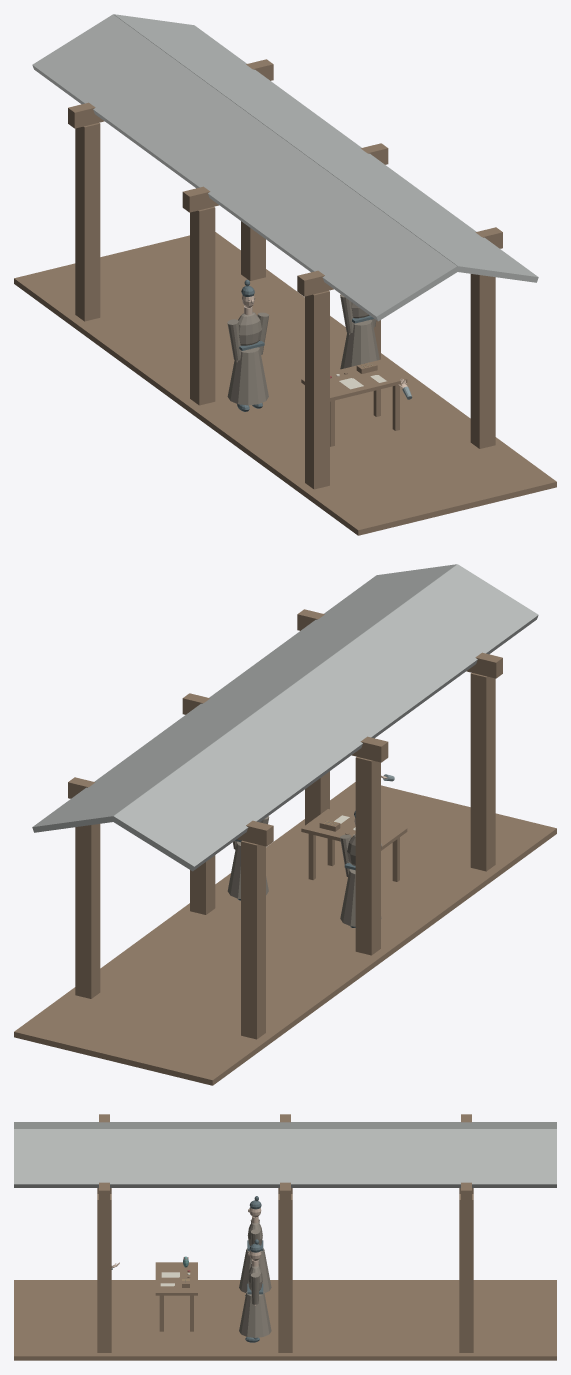
3 renders of one model, top to bottom at view 1: azimuth 30°, elevation 25°; view 2: azimuth 150°, elevation 25°; view 3: azimuth 270°, elevation 25°, orthographic. The views are drawn at different scales.
Parts seen in each view (by area): view 1: floor (×3), roof_left (×3), column (×5), roof_right (×3), robe_skirt (×2), beam (×3), tabletop, torso; view 2: floor (×3), roof_left (×3), column (×6), roof_right (×3), beam (×3), tabletop, robe_skirt; view 3: floor (×3), roof_right (×3), column (×3), roof_left (×3), robe_skirt (×2), tabletop, beam (×3).
Part boxes in pixels (box(x1,y1,x2,y2)): floor (×3): box(14, 232, 556, 535); roof_left (×3): box(32, 14, 458, 321); column (×5): box(75, 123, 495, 489); roof_right (×3): box(114, 14, 538, 282); robe_skirt (×2): box(227, 319, 379, 405); beam (×3): box(68, 59, 502, 296); tabletop: box(301, 359, 407, 401); torso: box(238, 312, 261, 349); floor (×3): box(14, 782, 556, 1085); roof_left (×3): box(112, 564, 538, 871); column (×6): box(75, 673, 495, 1039); roof_right (×3): box(32, 564, 456, 832); beam (×3): box(68, 609, 502, 846); tabletop: box(301, 809, 407, 850); robe_skirt: box(340, 869, 381, 926); floor (×3): box(14, 1280, 556, 1360); roof_right (×3): box(14, 1129, 556, 1187); column (×3): box(97, 1194, 473, 1352); roof_left (×3): box(14, 1122, 556, 1128); robe_skirt (×2): box(239, 1248, 271, 1337); tabletop: box(155, 1262, 197, 1295); beam (×3): box(99, 1114, 471, 1203).
Size of the model in its own units: 3 by 3.54 by 9.
